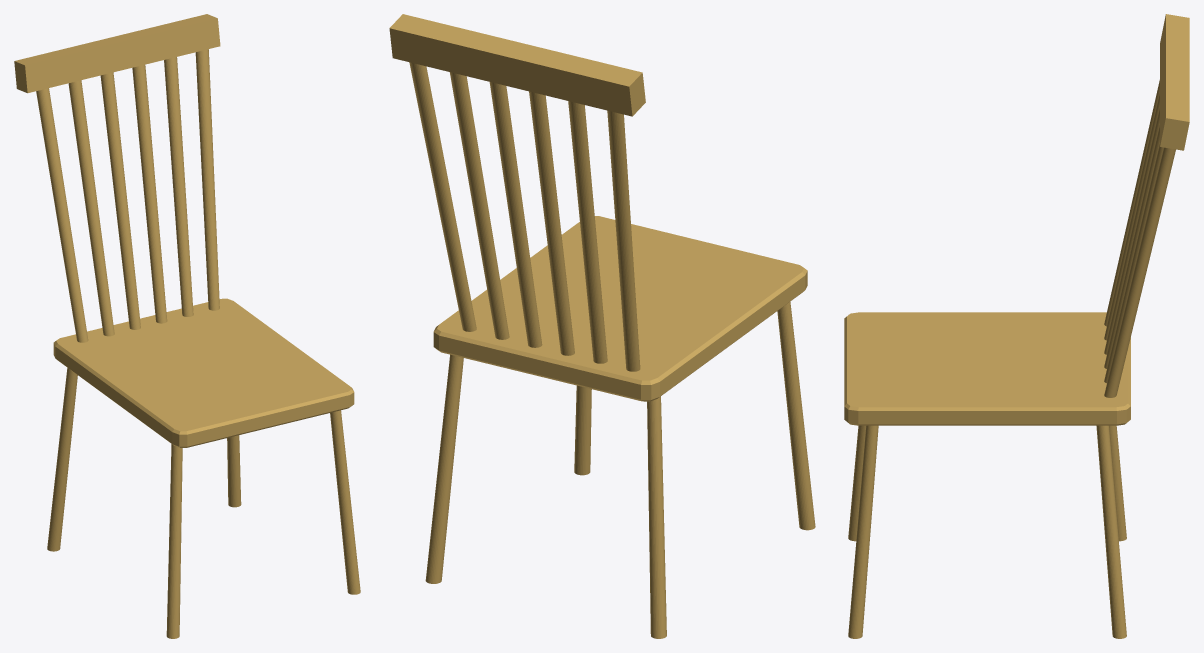
The model's file is DiningChair.fbx.
3 views of the same model, side by side, from view 1: azimuth 30°, elevation 25°; view 2: azimuth 150°, elevation 25°; view 3: azimuth 270°, elevation 25° (orthographic). The views are drawn at different scales.
Visible parts, largest first — view 1: Cube; view 2: Cube; view 3: Cube.
Part boxes in pixels (<box>): Cube: <box>14,14,360,638</box>; Cube: <box>389,14,815,638</box>; Cube: <box>844,14,1189,638</box>.
Bounding box in the file's own units: 149 × 343 × 207.
